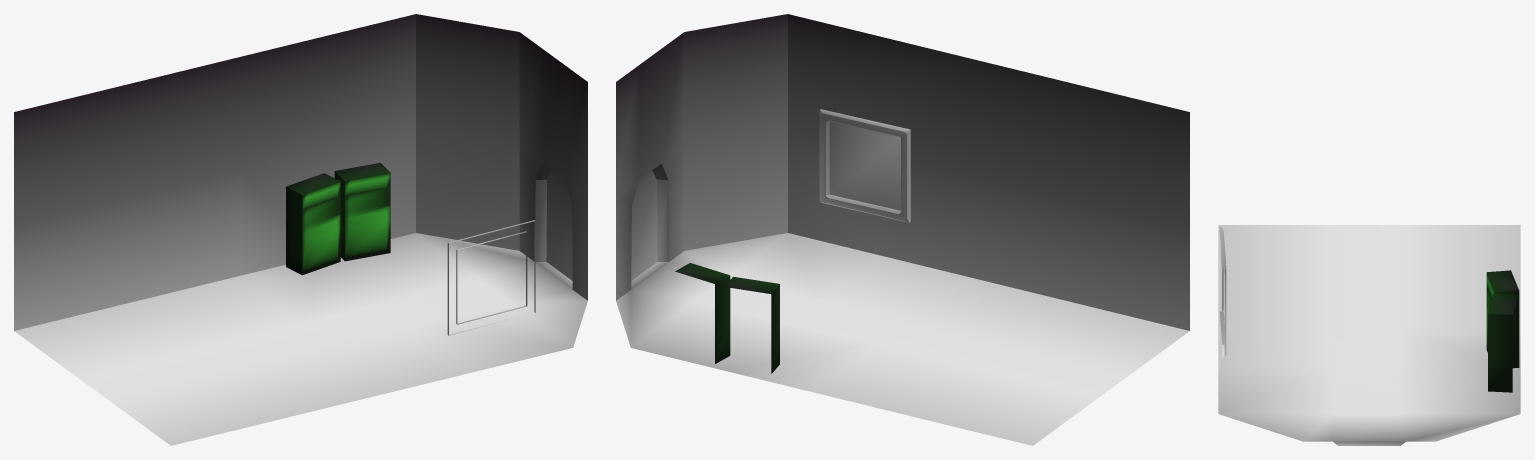
The model's file is MenuScene.glb.
3 views of the same model, side by side, from view 1: azimuth 30°, elevation 25°; view 2: azimuth 150°, elevation 25°; view 3: azimuth 270°, elevation 25° (orthographic). The views are drawn at different scales.
Visible parts, largest first — view 1: MenuScene; view 2: MenuScene; view 3: MenuScene.
Boxes of the visible parts, bbox=[...] form: MenuScene: bbox=[14, 14, 587, 445]; MenuScene: bbox=[616, 14, 1189, 445]; MenuScene: bbox=[1218, 225, 1520, 445].
Bounding box in the file's own units: 7.95 × 3.54 × 4.6.
